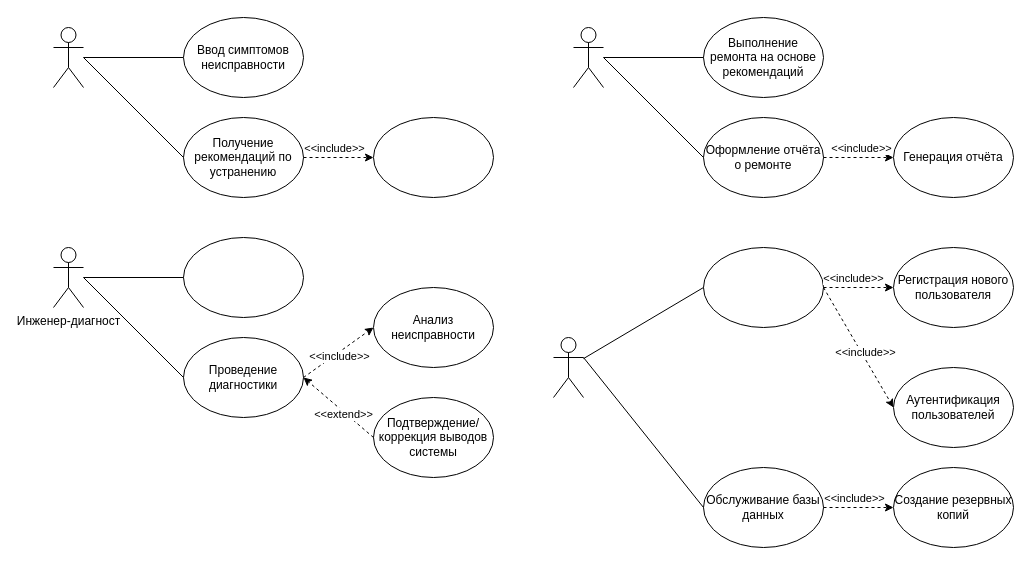
This 1031x565 diagram has some shape labels left out. The centre of each missing label's shape, as x and y in pixels:
"Администратор" belongs at [568,367].
"Получение справочной информации" belongs at [433,157].
"Пользователь" belongs at [68,57].
"Проверка логов системы" belongs at [243,277].
"Сервисный специалист" belongs at [588,57].
"Управление пользователями" belongs at [763,287].
